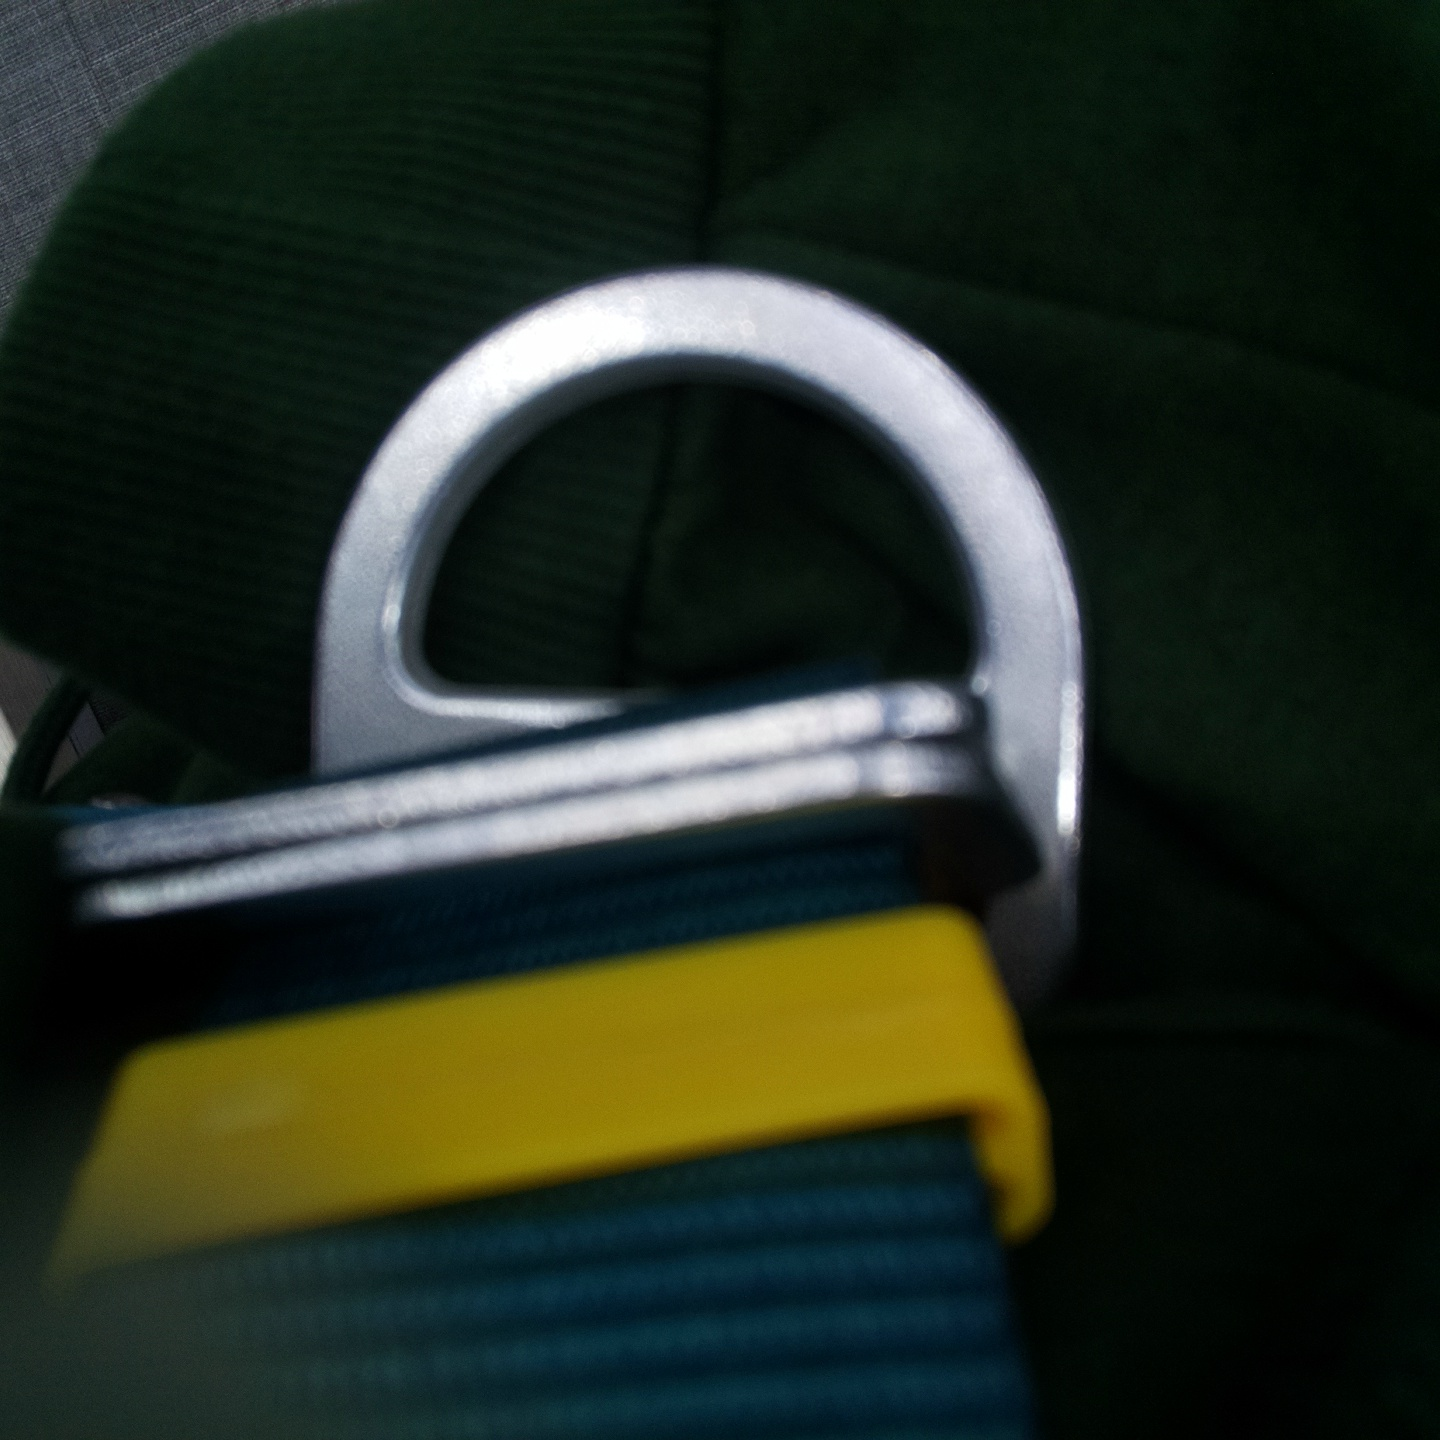UNSUCCESS: (315, 266, 1087, 691)
